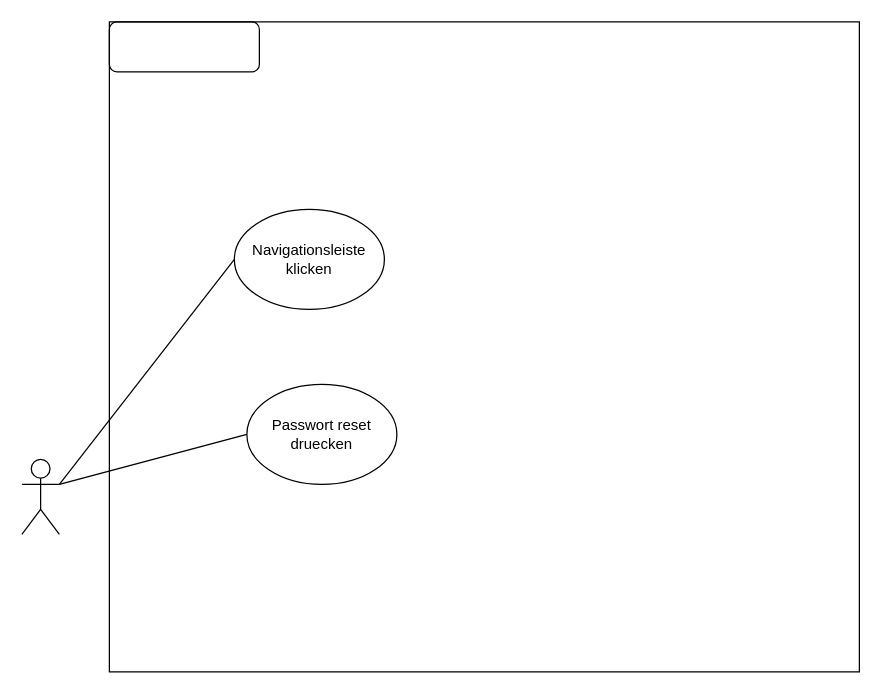
This 881x694 diagram has some shape labels left out. Here are the shapes that lost their labels. From the top down, the centre of each, then its label:
At (x=183, y=46): "Passwort Vergessen".
At (x=40, y=496): "Gast".
